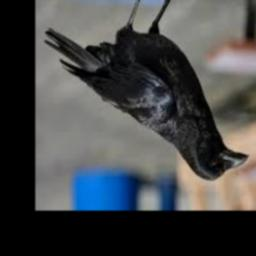Crow: (45, 0, 250, 182)
